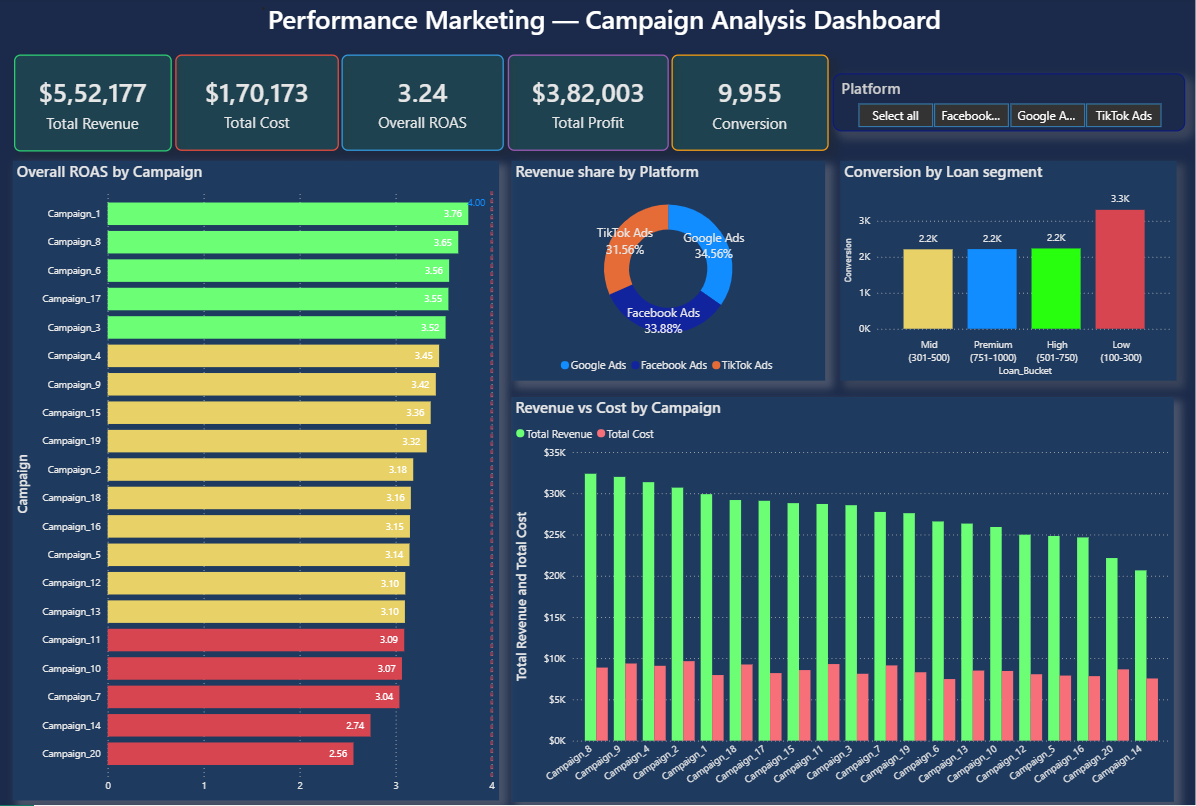

This screenshot's page, from the dashboard's own definition file:
{"tool":"powerbi","page":{"name":"Project","canvas":[1480,1000],"ordinal":0},"visuals":[{"type":"card","fields":{"Values":["MASTER_SHEET.Total Revenue"]},"box":[19.2,71,195,120],"z":0},{"type":"card","fields":{"Values":["MASTER_SHEET.Total Cost"]},"box":[217.9,71.3,202.7,119],"z":1000},{"type":"card","fields":{"Values":["MASTER_SHEET.Overall ROAS"]},"box":[424.4,71.3,201.1,119],"z":2000},{"type":"card","fields":{"Values":["MASTER_SHEET.Total Profit"]},"box":[629.1,71.3,199.4,119],"z":3000},{"type":"card","fields":{"Values":["MASTER_SHEET.Conversion"]},"box":[832.2,71.6,194.5,119.1],"z":4000},{"type":"clusteredColumnChart","title":"Revenue vs Cost by Campaign","fields":{"Category":["MASTER_SHEET.campaign_name"],"Y":["MASTER_SHEET.Total Revenue","MASTER_SHEET.Total Cost"]},"box":[633.4,494.3,819.4,501],"z":5000},{"type":"donutChart","title":"Revenue share by Platform","fields":{"Category":["MASTER_SHEET.platform"],"Y":["MASTER_SHEET.Total Revenue"]},"box":[634,202,388,272],"z":6000},{"type":"clusteredBarChart","fields":{"Y":["MASTER_SHEET.Overall ROAS"],"Category":["MASTER_SHEET.campaign_name"]},"box":[16.8,202.7,601.5,790.9],"z":7000},{"type":"clusteredColumnChart","title":"Conversion by Loan segment","fields":{"Category":["MASTER_SHEET.Loan_Bucket"],"Y":["MASTER_SHEET.Conversion"]},"box":[1040,202,416,272],"z":8000},{"type":"slicer","title":"Platform","fields":{"Values":["MASTER_SHEET.platform"]},"box":[1030.5,93.8,435.7,72.1],"z":9000},{"type":"textbox","box":[0,0,1479.6,58.6],"z":10000}]}

Visuals, with their boxes in screenshot pixels (x1, y1, x2, y2), scaled from the page's 1480x1000 canvas onto the 1196x806 screenshot:
card - MASTER_SHEET.Total Revenue: (x1=16, y1=57, x2=173, y2=154)
card - MASTER_SHEET.Total Cost: (x1=176, y1=57, x2=340, y2=153)
card - MASTER_SHEET.Overall ROAS: (x1=343, y1=57, x2=505, y2=153)
card - MASTER_SHEET.Total Profit: (x1=508, y1=57, x2=670, y2=153)
card - MASTER_SHEET.Conversion: (x1=673, y1=58, x2=830, y2=154)
"Revenue vs Cost by Campaign" clusteredColumnChart: (x1=512, y1=398, x2=1174, y2=802)
"Revenue share by Platform" donutChart: (x1=512, y1=163, x2=826, y2=382)
clusteredBarChart - MASTER_SHEET.Overall ROAS x MASTER_SHEET.campaign_name: (x1=14, y1=163, x2=500, y2=801)
"Conversion by Loan segment" clusteredColumnChart: (x1=840, y1=163, x2=1177, y2=382)
"Platform" slicer: (x1=833, y1=76, x2=1185, y2=134)
textbox: (x1=0, y1=0, x2=1195, y2=47)
